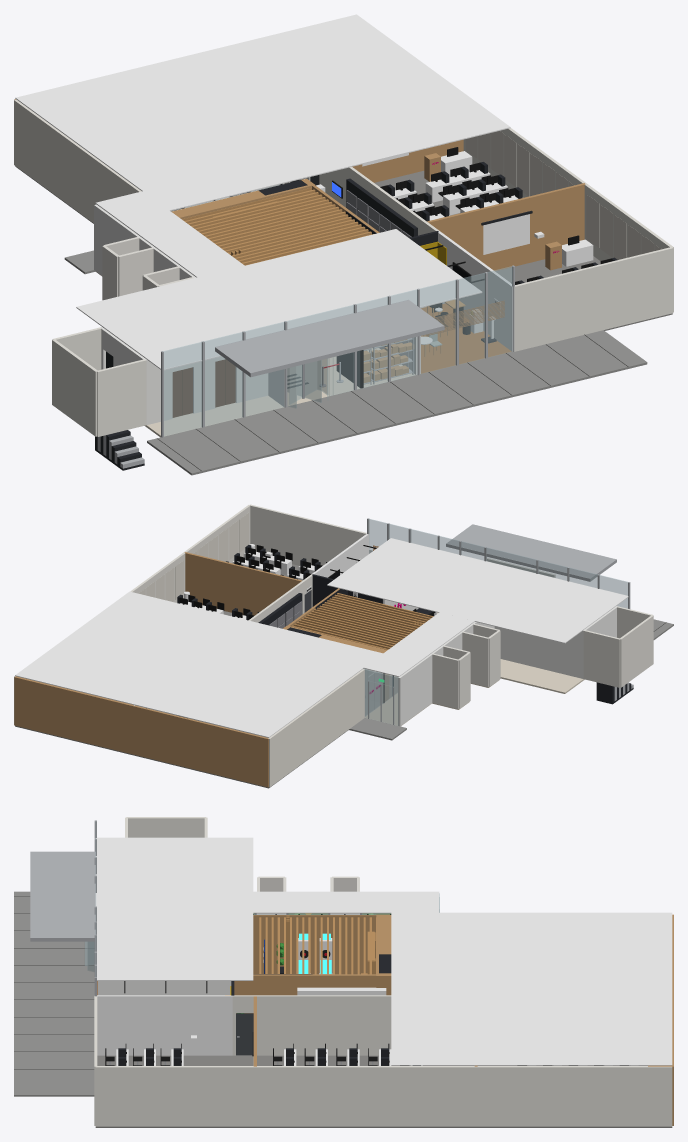
The model's file is floor_1f.glb.
The picture shows the model from 3 angles, top to bottom: view 1: azimuth 30°, elevation 25°; view 2: azimuth 150°, elevation 25°; view 3: azimuth 270°, elevation 25°; orthographic projection. The views are drawn at different scales.
Visible parts, largest first — view 1: Ceiling_Office_Wing, Ceiling_Lobby, Plaza_Granite_Floor, East_Rooms_South_Wall, Facade_Glass_East, Facade_Glass_West, Ceiling_Entrance_Canopy, CompRoom2_CompRoom1_Divider, Practice_West_Wall, Ceiling_Corridor, Lobby_Marble_Floor, Stair_1F_South_Wall (+21 smaller); view 2: Ceiling_Office_Wing, Ceiling_Lobby, Practice_North_Wall, Lecture_North_Wall, Ceiling_Entrance_Canopy, CompRoom2_CompRoom1_Divider, East_Rooms_South_Wall, Practice_West_Wall, ElevHall_North_Wall, Ceiling_Corridor, Stair_1F_North_Wall, Facade_Glass_East (+21 smaller); view 3: Ceiling_Office_Wing, East_Rooms_East_Wall, Ceiling_Lobby, Plaza_Granite_Floor, Cafe_East_Wall, Locker_Corridor_East_Wall_3, Ceiling_Entrance_Canopy, Lounge_West_Wood_Lining, Ceiling_Corridor, Lounge_East_Wall, Reception_Marble_Logo_Wall, Stair_1F_West_Wall (+6 smaller).
Boxes of the visible parts, x1,y1,x2,y2 form: Ceiling_Office_Wing: (15, 14, 510, 210); Ceiling_Lobby: (76, 229, 482, 370); Plaza_Granite_Floor: (147, 330, 647, 475); East_Rooms_South_Wall: (514, 247, 673, 351); Facade_Glass_East: (356, 266, 512, 389); Facade_Glass_West: (163, 322, 284, 436); Ceiling_Entrance_Canopy: (215, 299, 444, 377); CompRoom2_CompRoom1_Divider: (427, 183, 585, 271); Practice_West_Wall: (14, 99, 101, 223); Ceiling_Corridor: (95, 191, 244, 277); Lobby_Marble_Floor: (144, 348, 415, 437); Stair_1F_South_Wall: (97, 359, 146, 436); Ceiling_Office_Wing: (15, 591, 382, 737); Ceiling_Lobby: (327, 538, 628, 643); Practice_North_Wall: (132, 705, 268, 787); Lecture_North_Wall: (14, 677, 132, 754); Ceiling_Entrance_Canopy: (446, 524, 616, 581); CompRoom2_CompRoom1_Divider: (184, 552, 302, 615); East_Rooms_South_Wall: (249, 504, 366, 565); Practice_West_Wall: (268, 691, 334, 786); ElevHall_North_Wall: (494, 626, 583, 678); Ceiling_Corridor: (364, 612, 474, 676); Stair_1F_North_Wall: (583, 630, 620, 687); Facade_Glass_East: (369, 519, 484, 560); Ceiling_Office_Wing: (391, 912, 672, 1065); East_Rooms_East_Wall: (95, 1066, 672, 1126); Ceiling_Lobby: (95, 837, 253, 980); Plaza_Granite_Floor: (14, 891, 94, 1096); Cafe_East_Wall: (97, 995, 232, 1055); Locker_Corridor_East_Wall_3: (254, 995, 391, 1055); Ceiling_Entrance_Canopy: (30, 851, 95, 941); Lounge_West_Wood_Lining: (253, 915, 376, 974); Ceiling_Corridor: (253, 891, 439, 913); Lounge_East_Wall: (234, 974, 376, 1013); Reception_Marble_Logo_Wall: (97, 981, 231, 995); Stair_1F_West_Wall: (126, 817, 206, 837).
Bounding box in the file's own units: 28.95 × 6.2 × 32.28.
